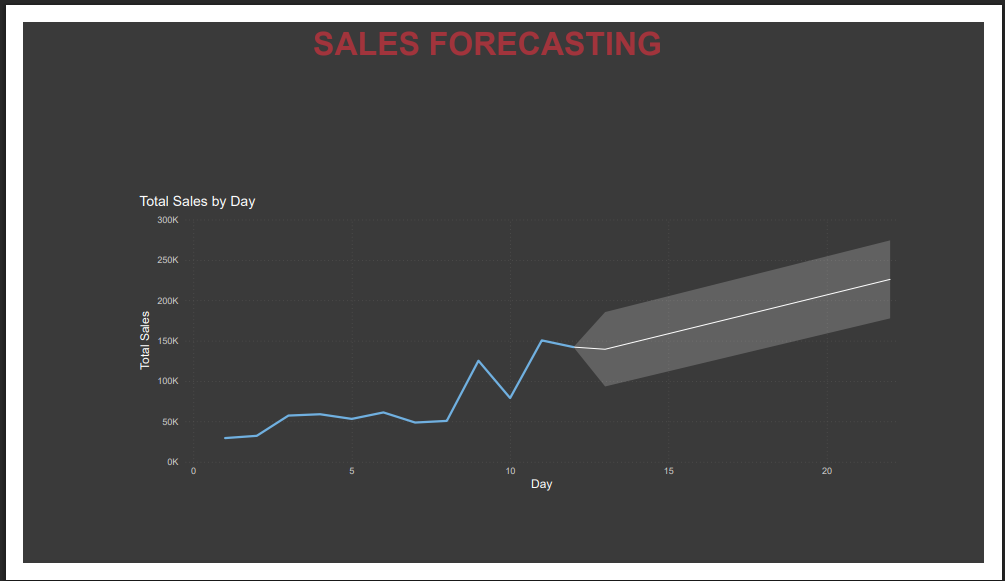

This screenshot's page, from the dashboard's own definition file:
{"tool":"powerbi","page":{"name":"Page 4","canvas":[1280,720],"ordinal":3},"visuals":[{"type":"textbox","box":[191.3,0,854.3,89.1],"z":0},{"type":"lineChart","fields":{"Category":["Sample - Superstore.Order Date.Variation.Date Hierarchy.Day"],"Y":["Sample - Superstore.Total Sales"]},"box":[150,228.3,1019.6,400],"z":1}]}

Visuals, with their boxes in screenshot pixels (x1, y1, x2, y2), scaled from the page's 1280x720 canvas onto the 1005x581 screenshot:
textbox: [left=150, top=0, right=821, bottom=72]
lineChart - Sample - Superstore.Order Date.Variation.Date Hierarchy.Day x Sample - Superstore.Total Sales: [left=118, top=184, right=918, bottom=507]
